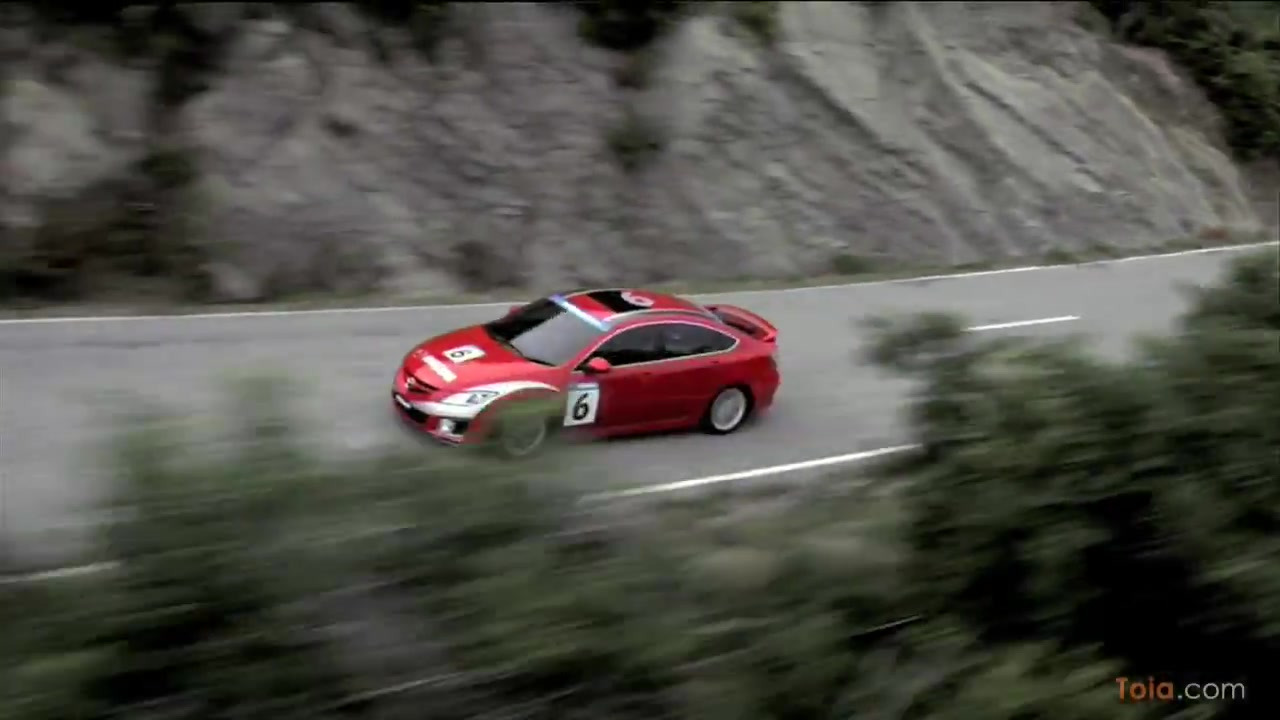car: (390, 283, 783, 457)
